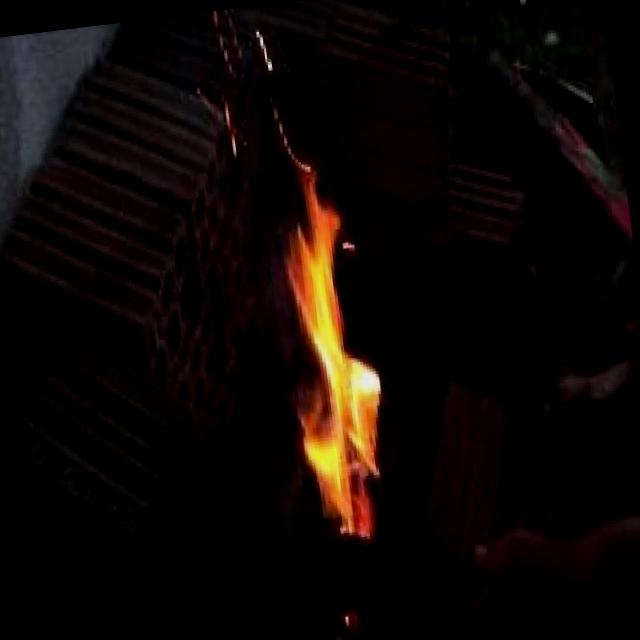fire: (222, 120, 445, 565)
